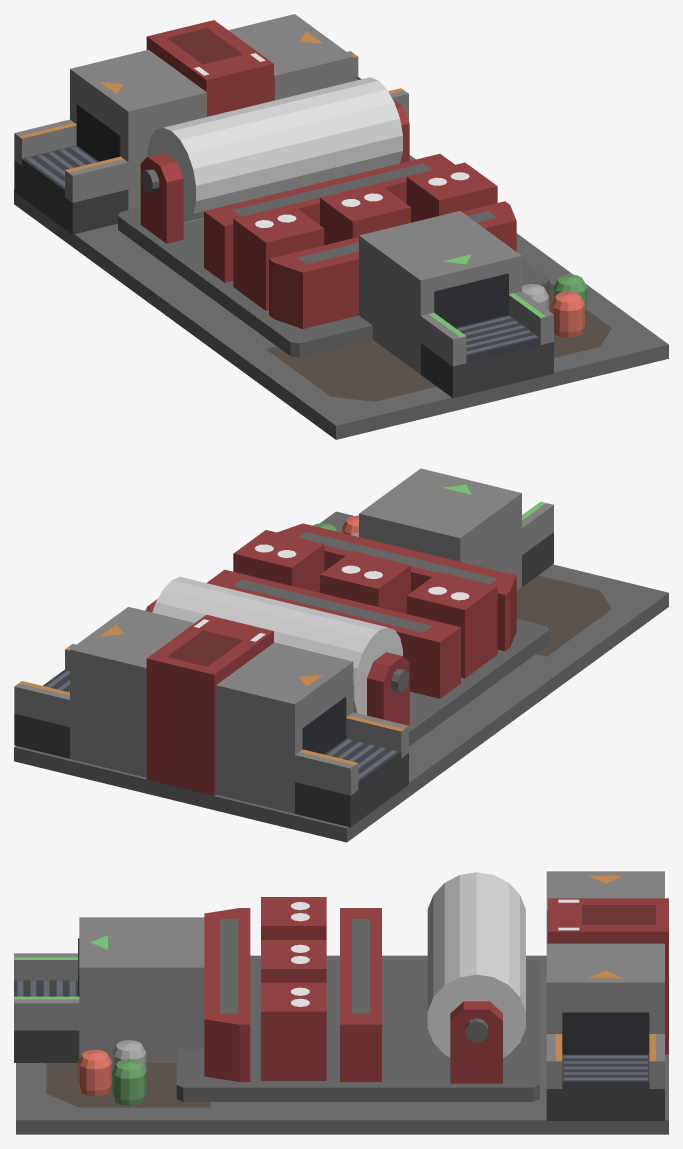
The model's file is vfef_autoloom.obj.
3 renders of one model, top to bottom at view 1: azimuth 30°, elevation 25°; view 2: azimuth 150°, elevation 25°; view 3: azimuth 270°, elevation 25°, orthographic.
Parts seen in each view (by area): view 1: vfef_autoloom_0, vfef_autoloom_26, vfef_autoloom_41, vfef_autoloom_2, vfef_autoloom_25, vfef_autoloom_33, vfef_autoloom_1, vfef_autoloom_12, vfef_autoloom_22, vfef_autoloom_35, vfef_autoloom_31, vfef_autoloom_43 (+19 smaller); view 2: vfef_autoloom_0, vfef_autoloom_2, vfef_autoloom_12, vfef_autoloom_41, vfef_autoloom_22, vfef_autoloom_26, vfef_autoloom_31, vfef_autoloom_35, vfef_autoloom_25, vfef_autoloom_1, vfef_autoloom_33, vfef_autoloom_39 (+15 smaller); view 3: vfef_autoloom_0, vfef_autoloom_25, vfef_autoloom_41, vfef_autoloom_26, vfef_autoloom_12, vfef_autoloom_39, vfef_autoloom_33, vfef_autoloom_31, vfef_autoloom_22, vfef_autoloom_14, vfef_autoloom_29, vfef_autoloom_21 (+20 smaller).
Boxes of the visible parts, bbox=[...] form: vfef_autoloom_0: bbox=[14, 155, 668, 439]; vfef_autoloom_26: bbox=[147, 77, 402, 222]; vfef_autoloom_41: bbox=[359, 211, 521, 374]; vfef_autoloom_2: bbox=[70, 49, 206, 209]; vfef_autoloom_25: bbox=[118, 207, 549, 357]; vfef_autoloom_33: bbox=[269, 201, 516, 328]; vfef_autoloom_1: bbox=[266, 282, 611, 401]; vfef_autoloom_12: bbox=[228, 14, 353, 100]; vfef_autoloom_22: bbox=[146, 20, 273, 116]; vfef_autoloom_35: bbox=[233, 204, 324, 310]; vfef_autoloom_31: bbox=[204, 153, 454, 282]; vfef_autoloom_43: bbox=[420, 342, 553, 398]; vfef_autoloom_0: bbox=[14, 511, 668, 842]; vfef_autoloom_2: bbox=[216, 642, 353, 813]; vfef_autoloom_12: bbox=[70, 607, 194, 777]; vfef_autoloom_41: bbox=[359, 468, 521, 590]; vfef_autoloom_22: bbox=[146, 614, 273, 795]; vfef_autoloom_26: bbox=[152, 576, 402, 715]; vfef_autoloom_31: bbox=[207, 569, 460, 698]; vfef_autoloom_35: bbox=[406, 572, 497, 678]; vfef_autoloom_25: bbox=[408, 619, 549, 746]; vfef_autoloom_1: bbox=[516, 575, 611, 656]; vfef_autoloom_33: bbox=[277, 523, 516, 651]; vfef_autoloom_39: bbox=[233, 530, 324, 592]; vfef_autoloom_0: bbox=[16, 955, 668, 1134]; vfef_autoloom_25: bbox=[176, 959, 539, 1101]; vfef_autoloom_41: bbox=[79, 917, 204, 1062]; vfef_autoloom_26: bbox=[427, 872, 525, 1057]; vfef_autoloom_12: bbox=[546, 943, 664, 1033]; vfef_autoloom_39: bbox=[261, 982, 326, 1080]; vfef_autoloom_33: bbox=[204, 908, 250, 1081]; vfef_autoloom_31: bbox=[340, 908, 381, 1081]; vfef_autoloom_22: bbox=[548, 898, 668, 1054]; vfef_autoloom_14: bbox=[546, 1089, 664, 1120]; vfef_autoloom_29: bbox=[450, 1001, 502, 1083]; vfef_autoloom_21: bbox=[562, 1012, 649, 1054].
Bounding box in the file's own units: 2.99 × 1.15 × 4.97.
